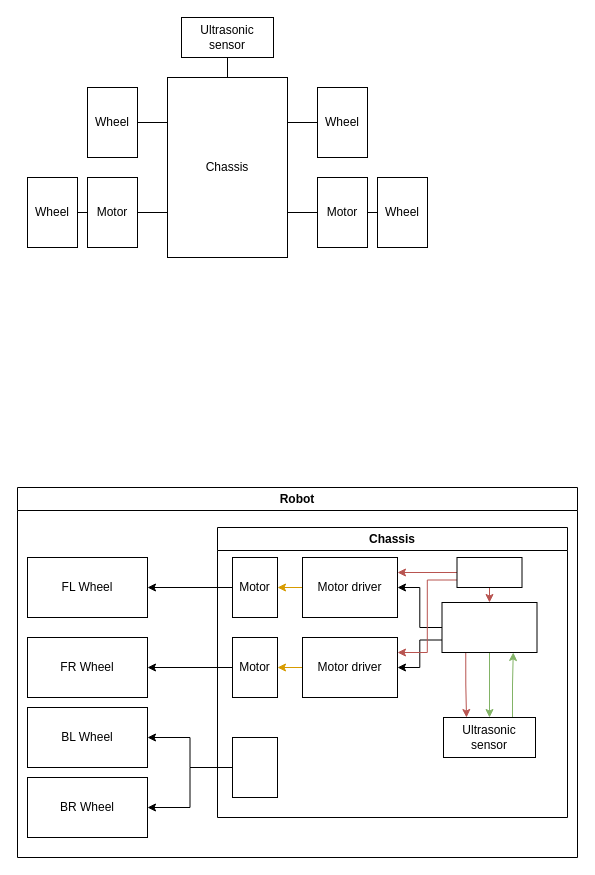
Some shapes in this 595 by 875 pixel diagram are drawn without their labels. The shapes that lost their labels are listed below. From the top down, each one's centre as x and y in pixels, then its label:
At [489,572]: "Battery".
At [489,627]: "Computer (microcontroller)".
At [255,767]: "Mount".
